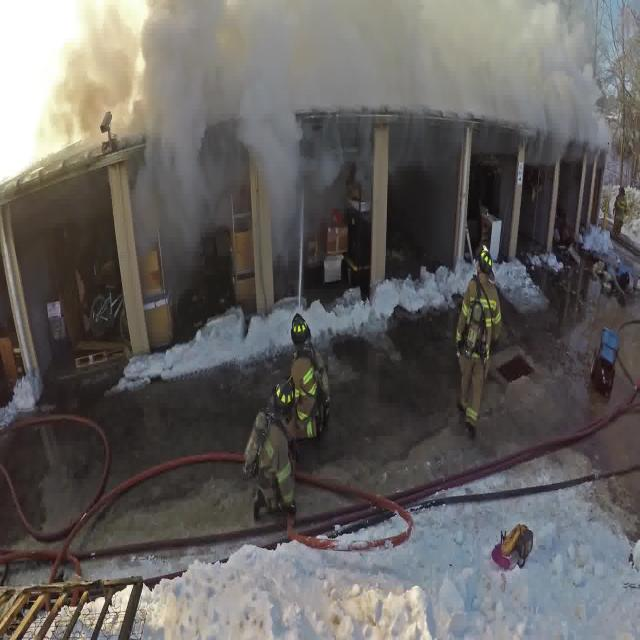Smoke: (0, 0, 615, 177)
